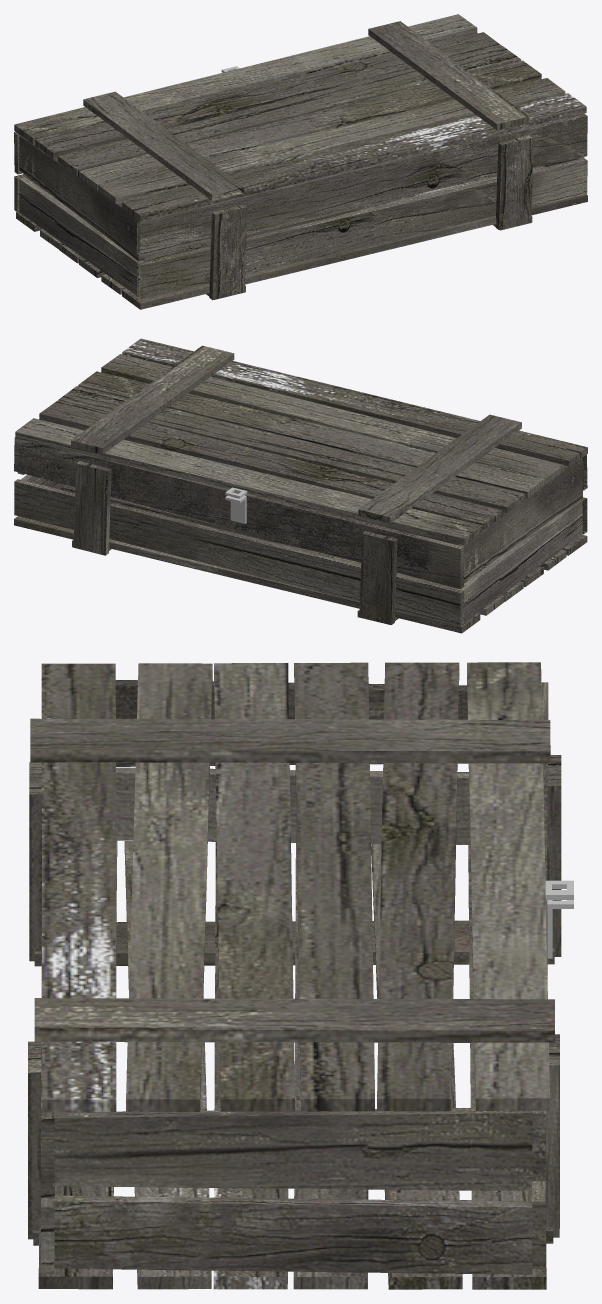
File: Wood_Box_B.fbx
3 renders of one model, top to bottom at view 1: azimuth 30°, elevation 25°; view 2: azimuth 150°, elevation 25°; view 3: azimuth 270°, elevation 25°, orthographic. The views are drawn at different scales.
Visible parts, largest first — view 1: Door, Wood_Box; view 2: Door, Wood_Box; view 3: Door, Wood_Box.
Part boxes in pixels (x1,y1,x2,y2): Door: (14,14,586,221); Wood_Box: (14,33,587,309); Door: (15,338,587,545); Wood_Box: (14,437,587,633); Door: (30,662,573,1112); Wood_Box: (28,680,573,1289).
Bounding box in the file's own units: 80.82 × 18.37 × 42.59.
